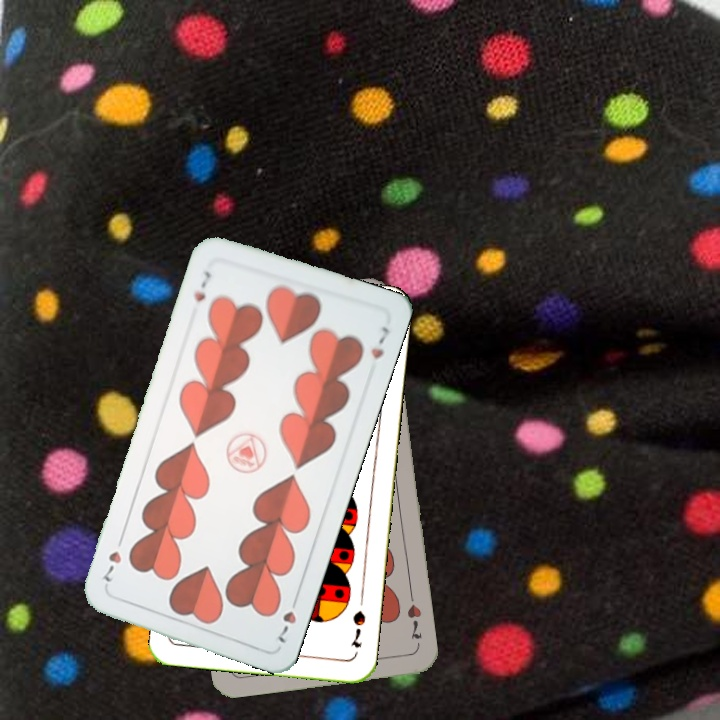H7: (273, 591, 301, 646), (403, 600, 425, 642), (190, 267, 214, 305)
S7: (347, 606, 368, 651)
